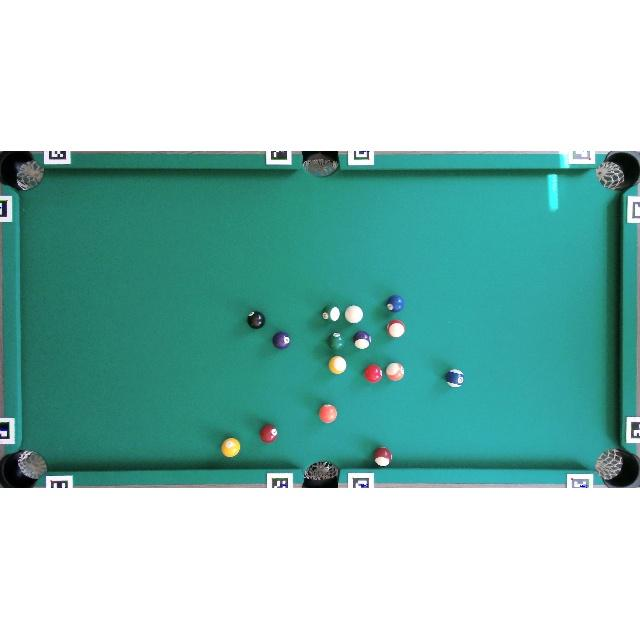cue ball: (345, 305, 363, 323)
other: (221, 438, 240, 457), (373, 448, 392, 467), (386, 362, 405, 381), (445, 369, 464, 388), (319, 404, 337, 424), (260, 424, 278, 444), (364, 364, 382, 383), (328, 356, 346, 374), (353, 331, 371, 349), (386, 295, 404, 313), (387, 320, 405, 338), (327, 333, 346, 350), (247, 311, 265, 328), (273, 332, 290, 349), (322, 305, 339, 322)
